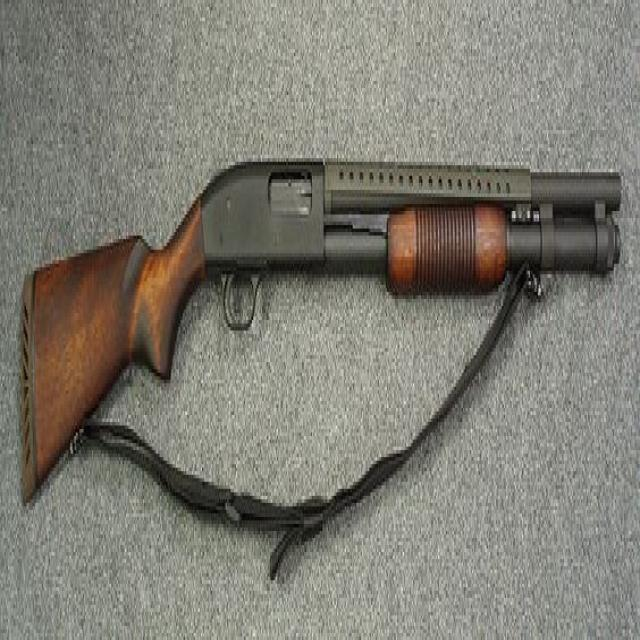shotgun: (22, 156, 624, 454)
